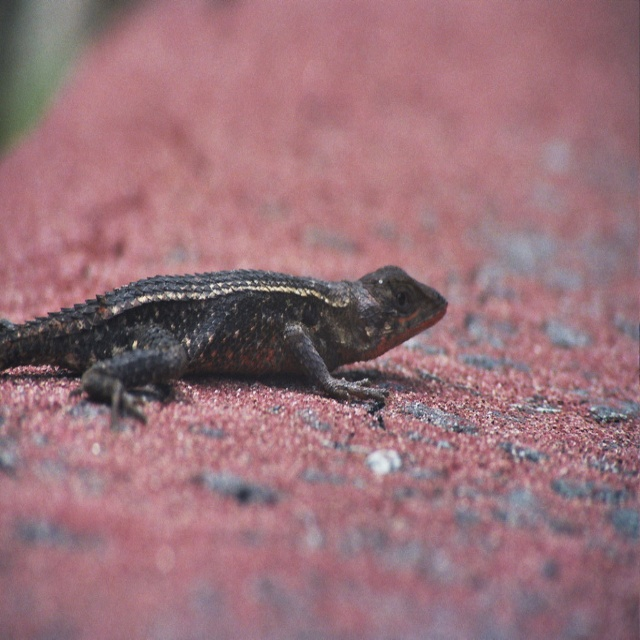Lizard: (0, 265, 448, 431)
